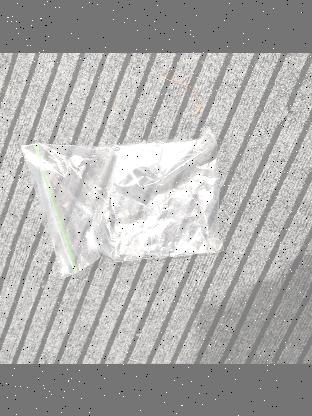Others: (22, 128, 222, 276)
